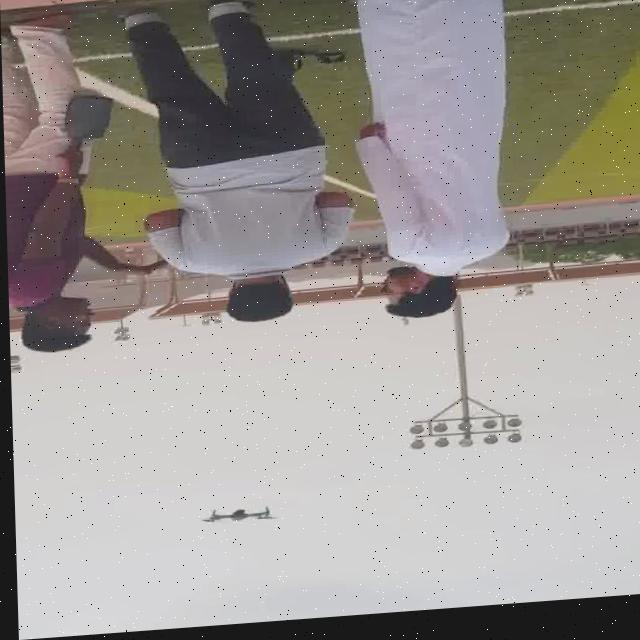drone: (200, 507, 281, 535)
